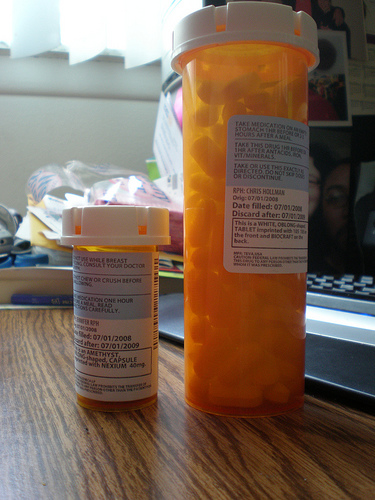pill bottle: (59, 202, 174, 409)
